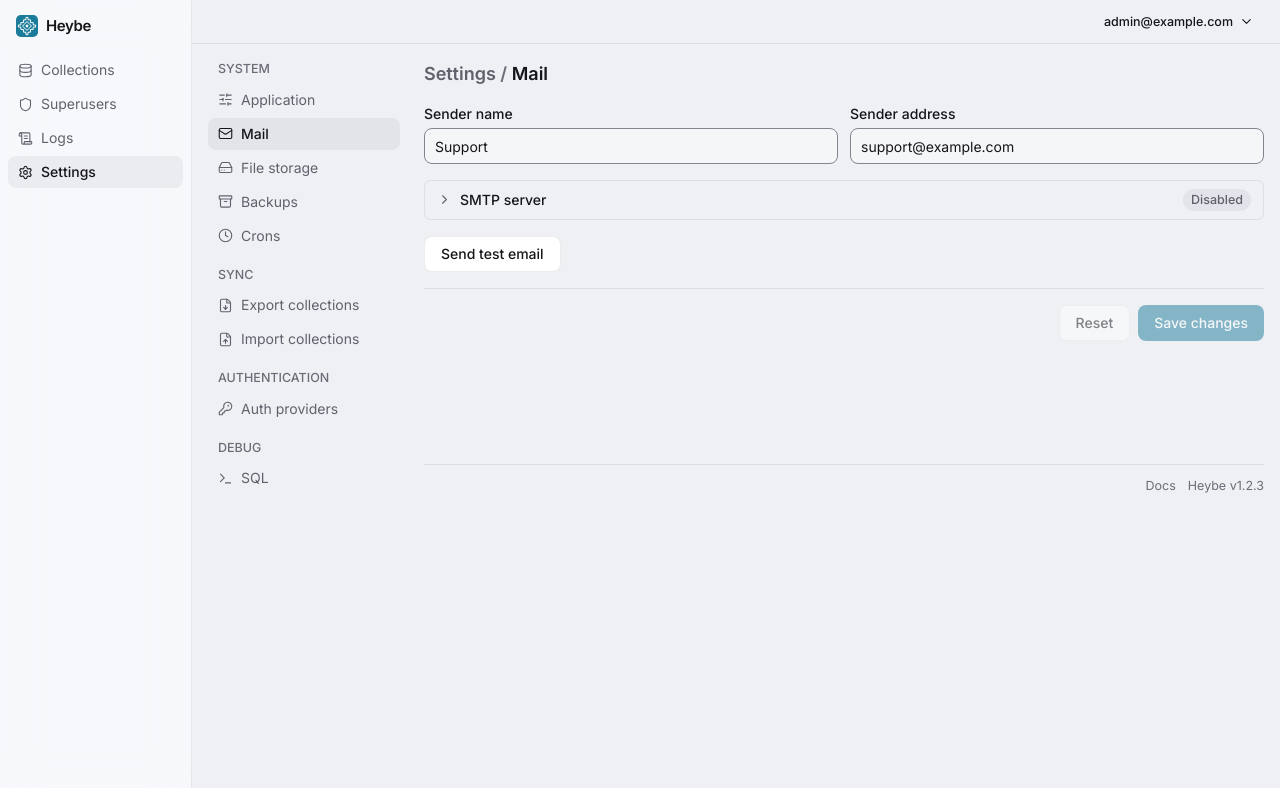
Scenario: a field error in a collapsed section opens it and shows the error
Step 1. Type "x" into the field labelled "Sender name" → (631, 146), box [424,128,838,164]
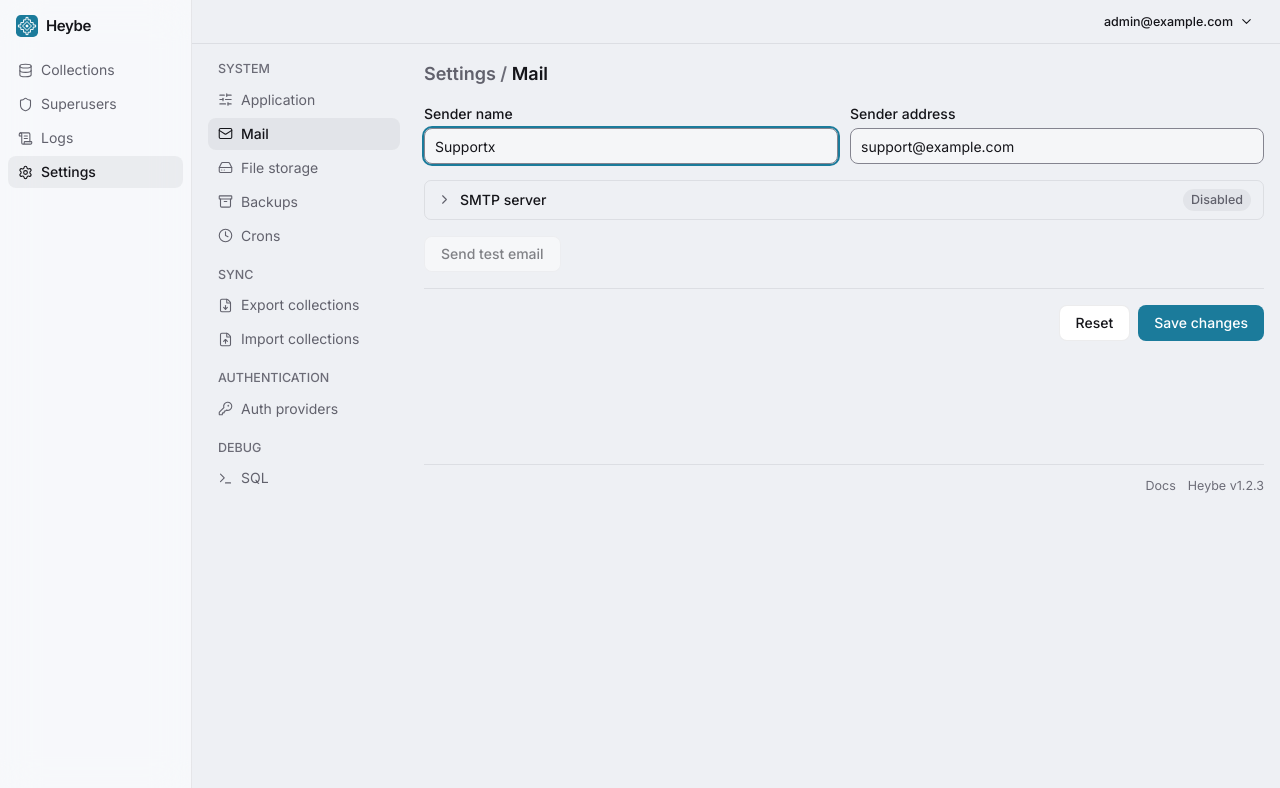
Step 2. Click the button "Save changes" → (1201, 322), box [1138,304,1264,340]
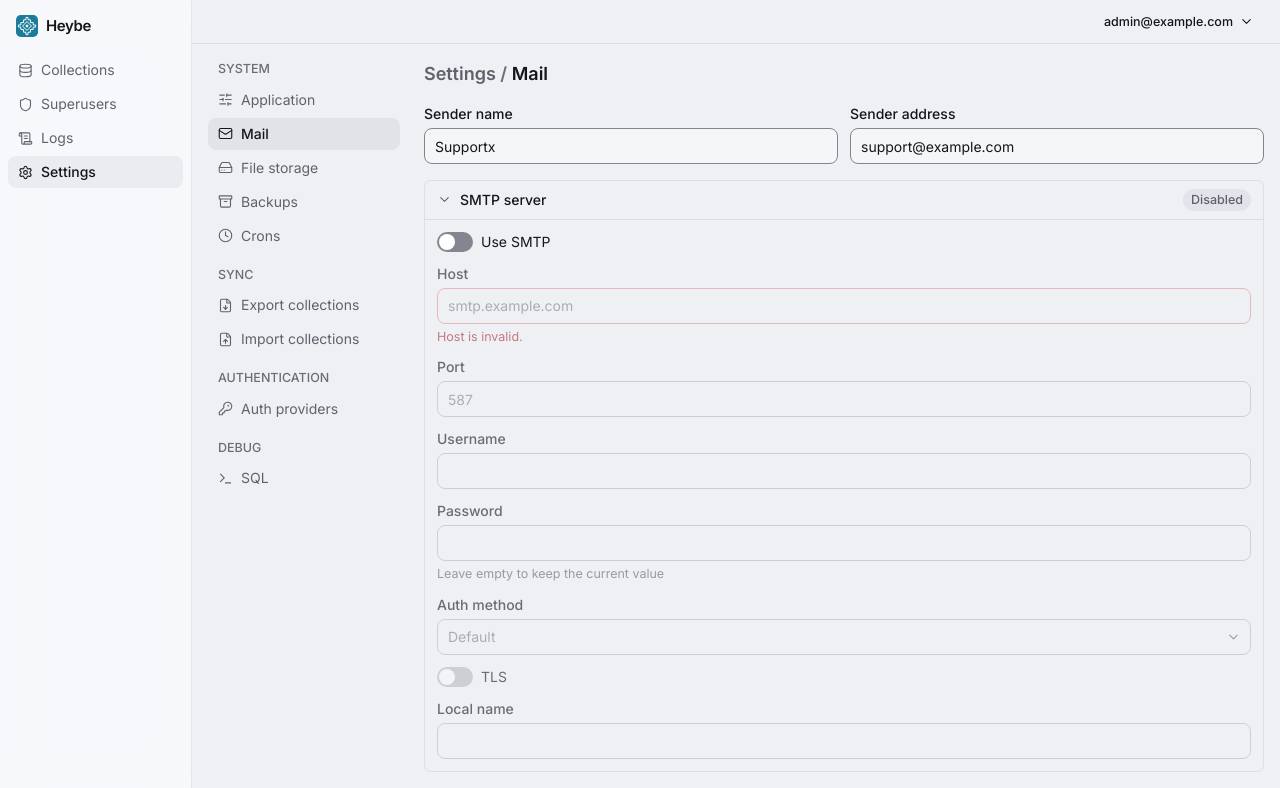
Now the text "Host is invalid." is shown, box [437,328,523,344]
Now the button "SMTP server Disabled" is expanded, box [425,181,1263,218]
